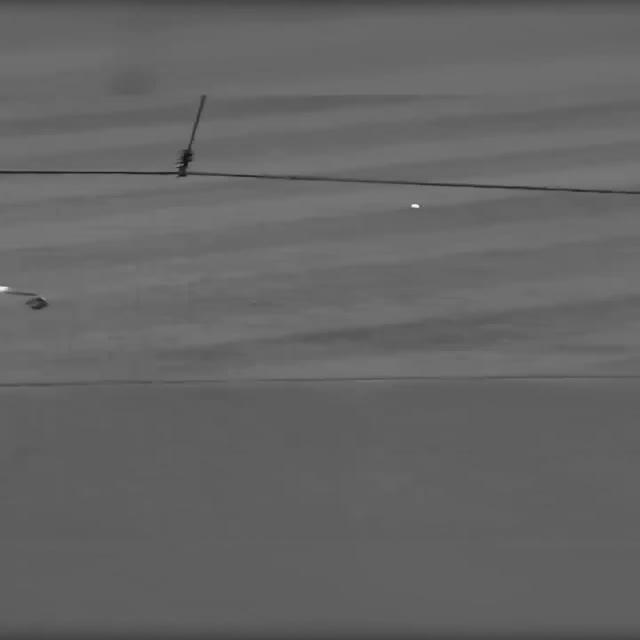baseball: (410, 203, 420, 209)
shoe: (24, 296, 48, 310)
